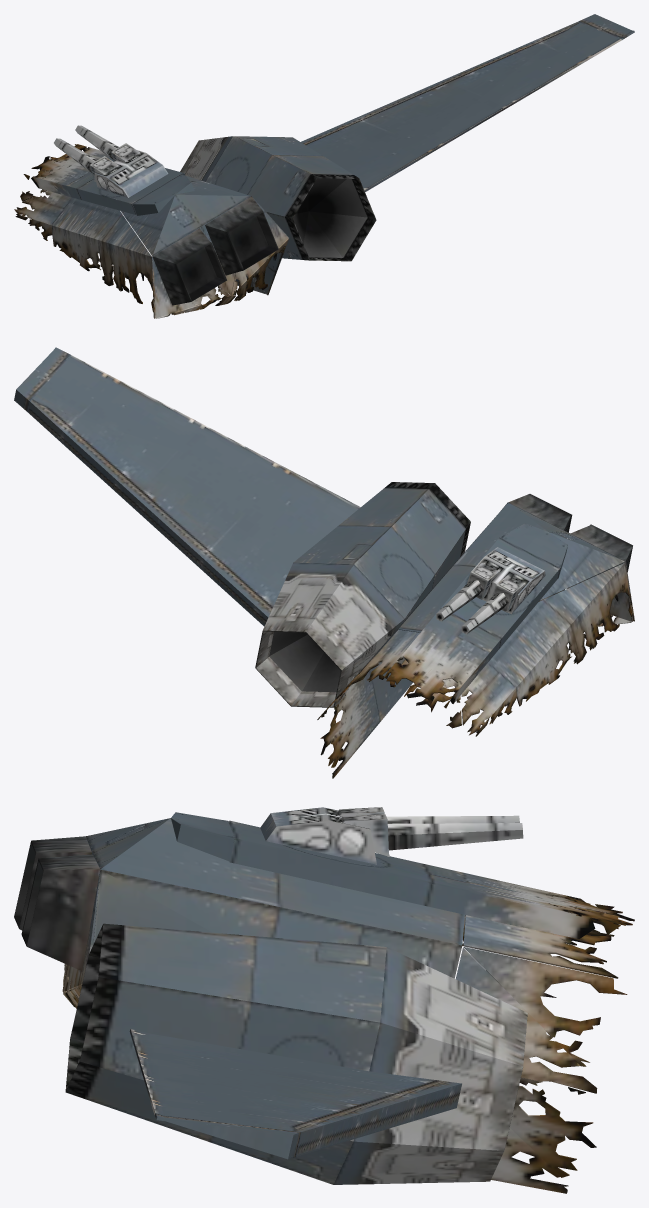
The model's file is crashwing_cad.glb.
3 renders of one model, top to bottom at view 1: azimuth 30°, elevation 25°; view 2: azimuth 150°, elevation 25°; view 3: azimuth 270°, elevation 25°, orthographic. The views are drawn at different scales.
Parts seen in each view (by area): view 1: Crash Wing; view 2: Crash Wing; view 3: Crash Wing.
Boxes of the visible parts, x1=… form: Crash Wing: x1=14, y1=14, x2=634, y2=318; Crash Wing: x1=14, y1=347, x2=634, y2=778; Crash Wing: x1=14, y1=807, x2=634, y2=1193.
Bounding box in the file's own units: 53.2 × 22.26 × 31.42.
1 material, 1 textured.
